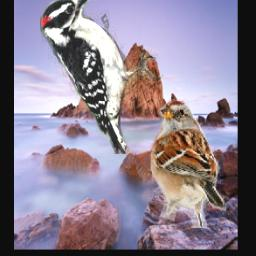Sparrow: (149, 99, 225, 228)
Woodpecker: (39, 0, 163, 154)
